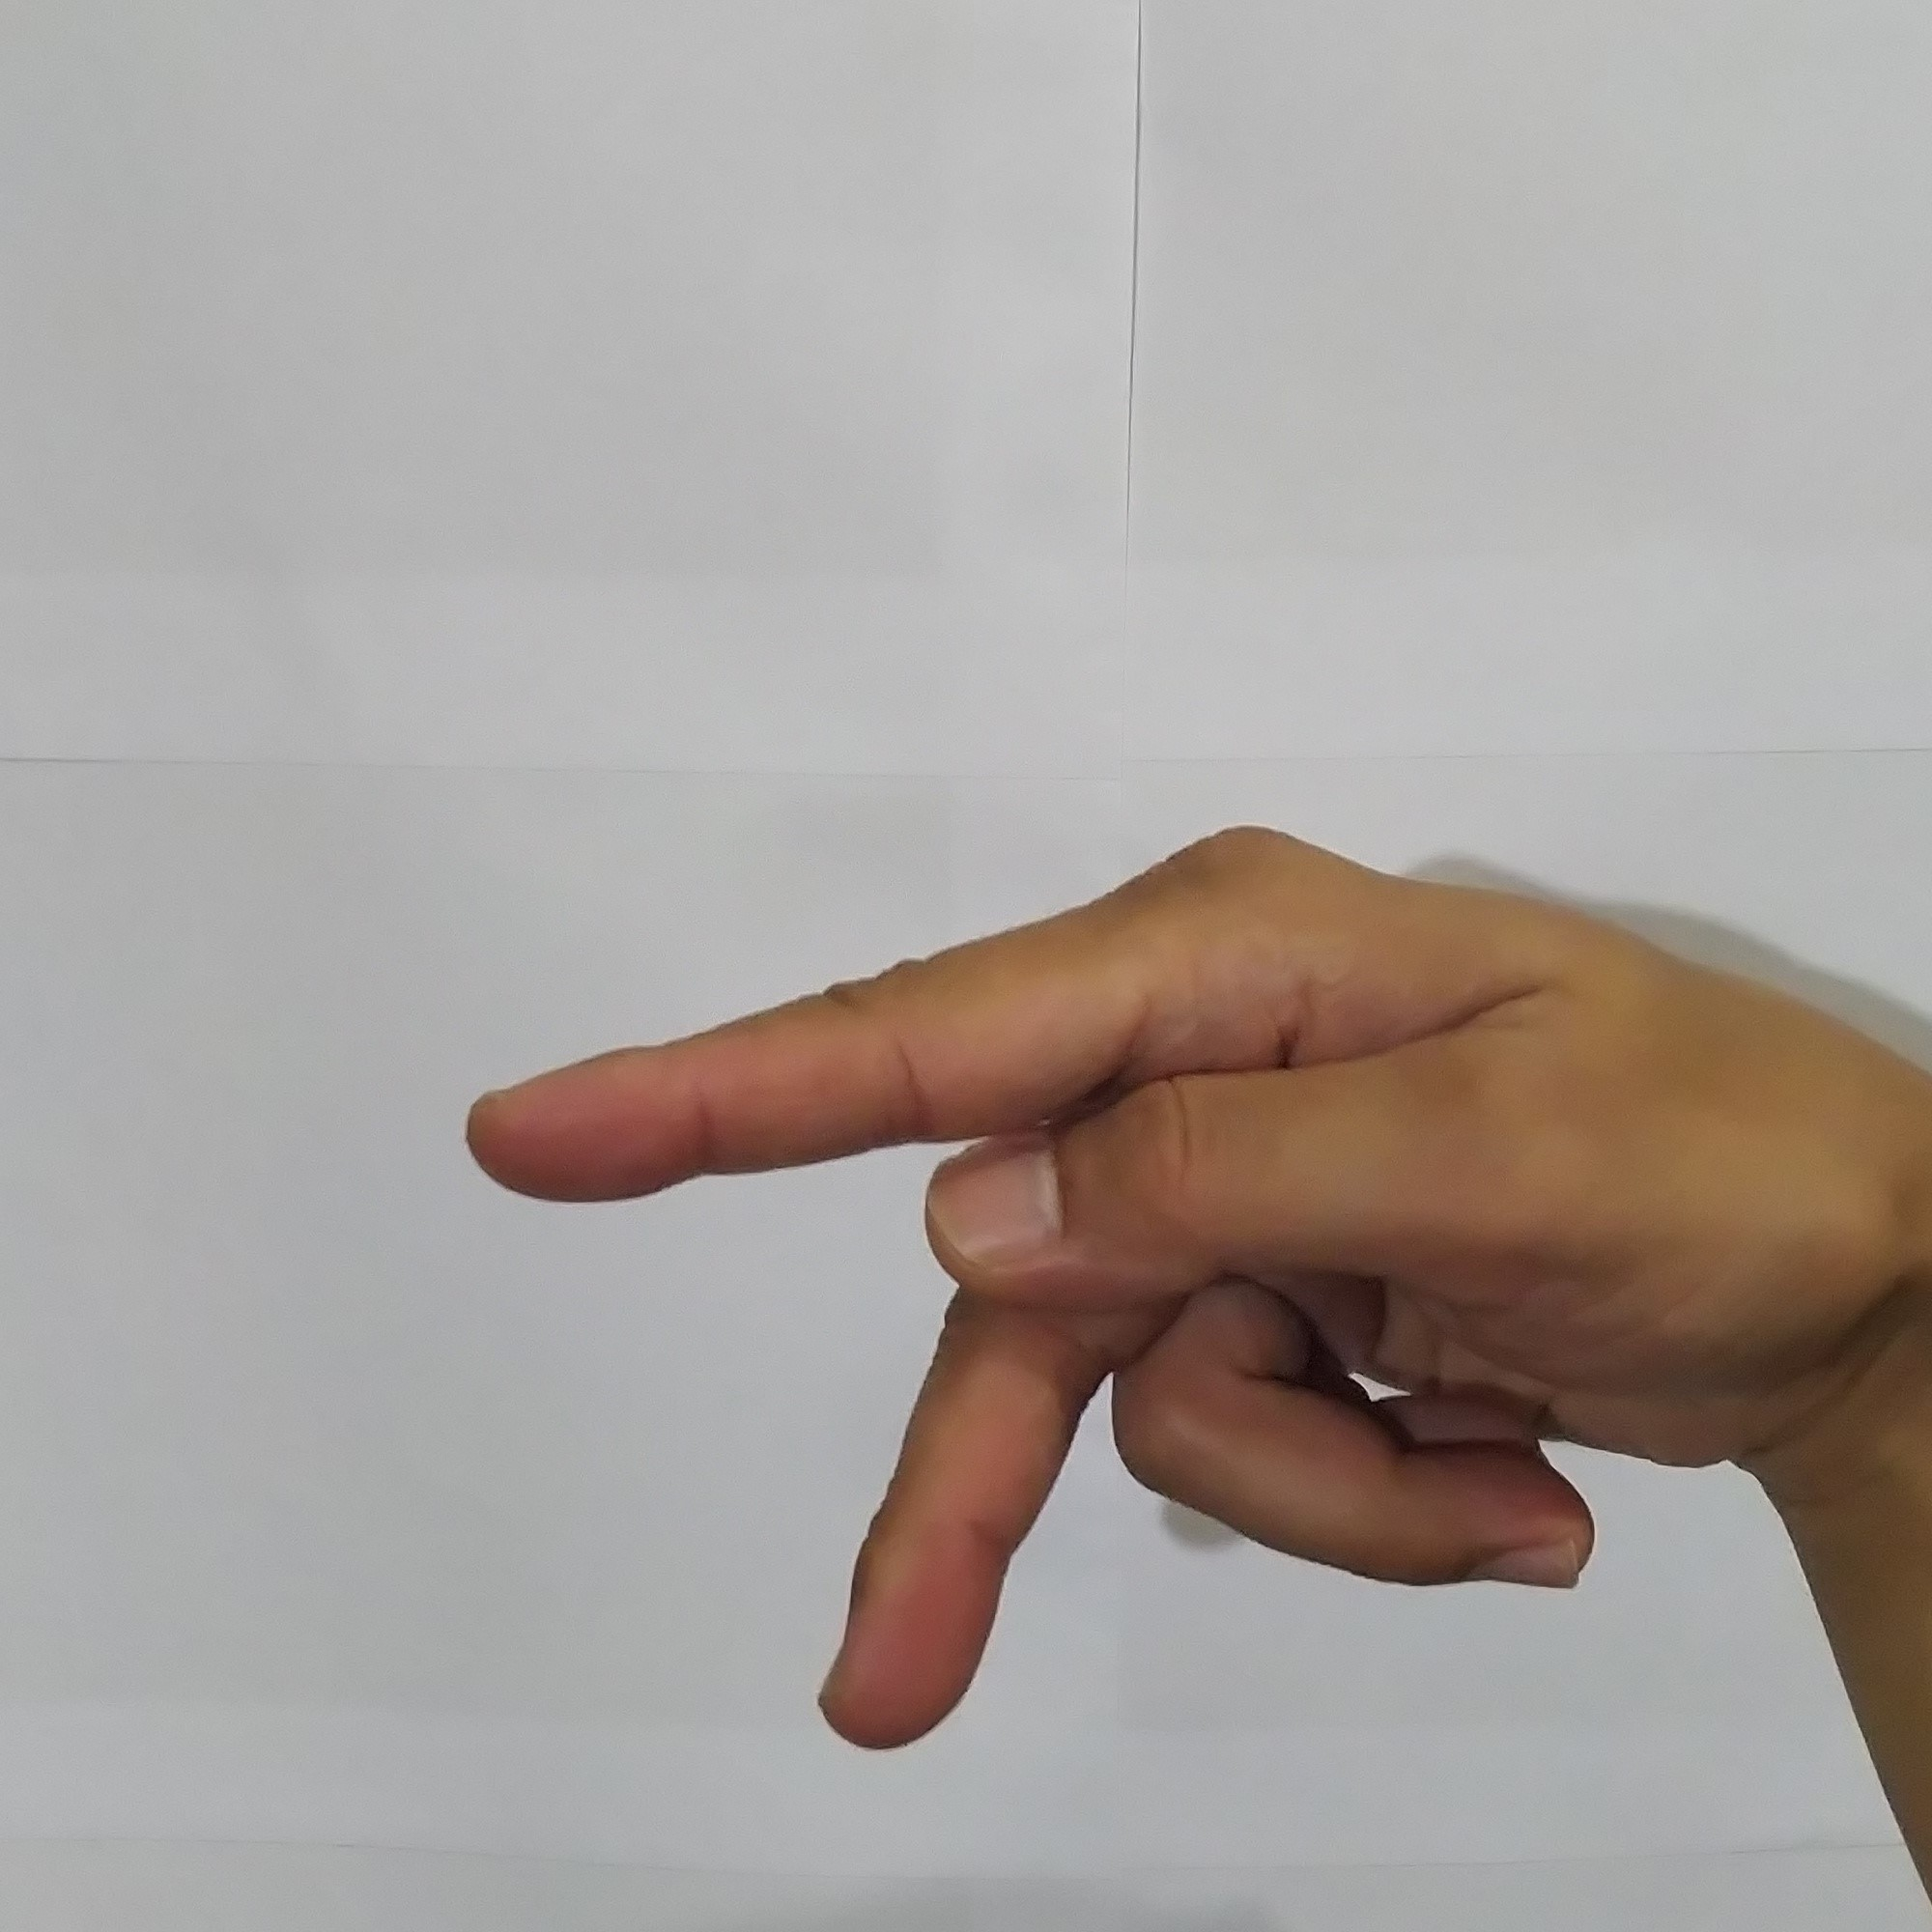P: (432, 794, 1932, 1778)
